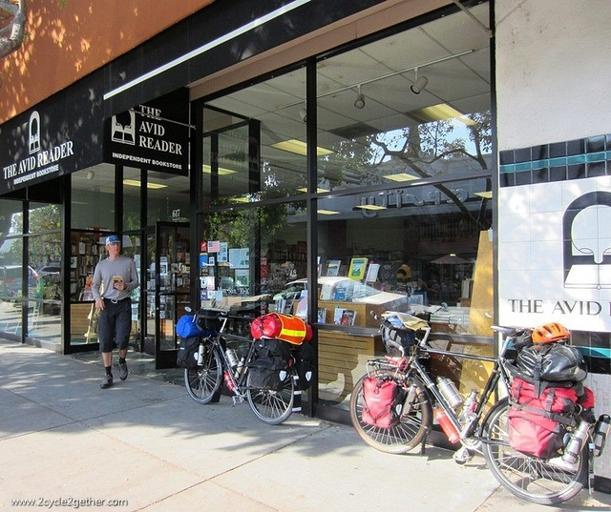non-vehicle: (349, 310, 594, 505), (183, 305, 295, 425)
